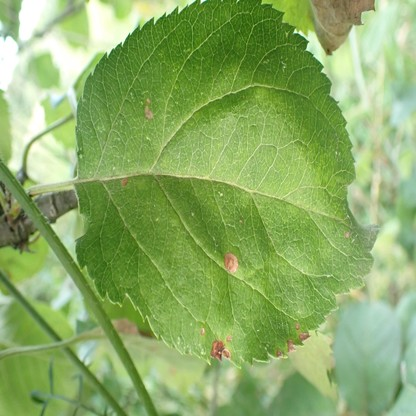frogeye: (208, 340, 231, 362), (223, 252, 239, 274), (144, 98, 153, 120), (288, 338, 296, 352), (301, 332, 310, 340), (120, 177, 127, 184), (277, 350, 283, 358), (201, 328, 205, 335), (296, 324, 300, 330)
